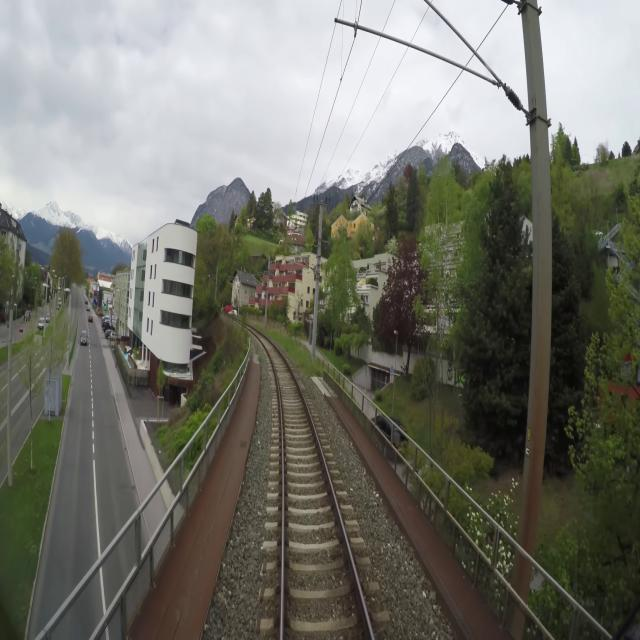rail-track: (260, 335, 370, 639)
